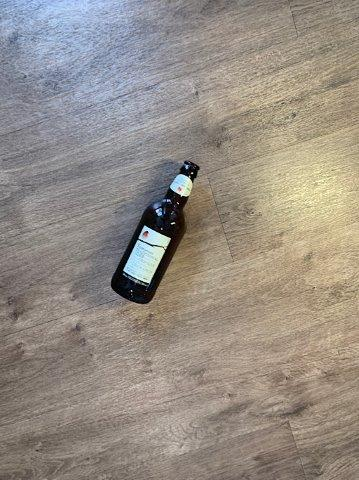botolkaca: (111, 161, 199, 305)
